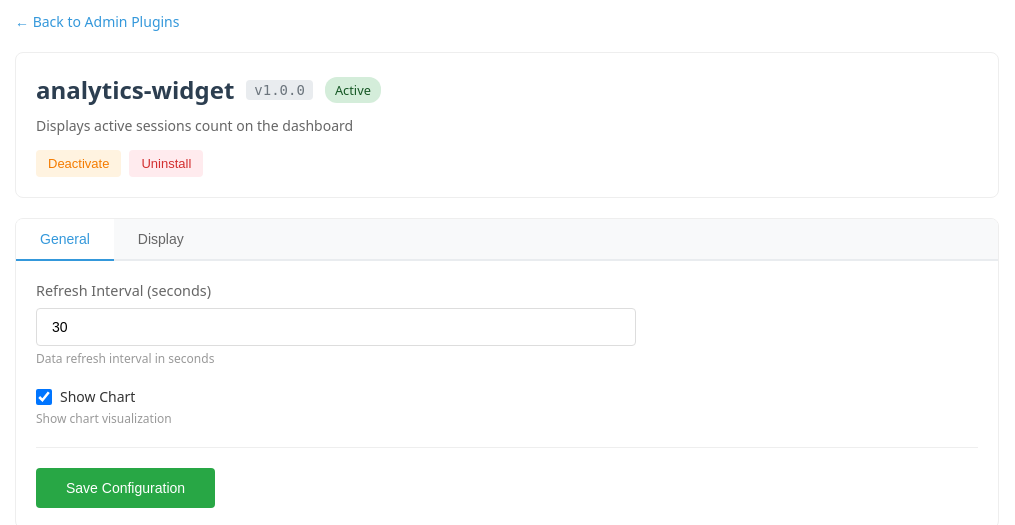
Scenario: PluginDetails.vue › switches config tabs on click
// Click display tab
Click the button with test id "config-tab-display": (161, 240) x1=114 y1=219 x2=208 y2=261
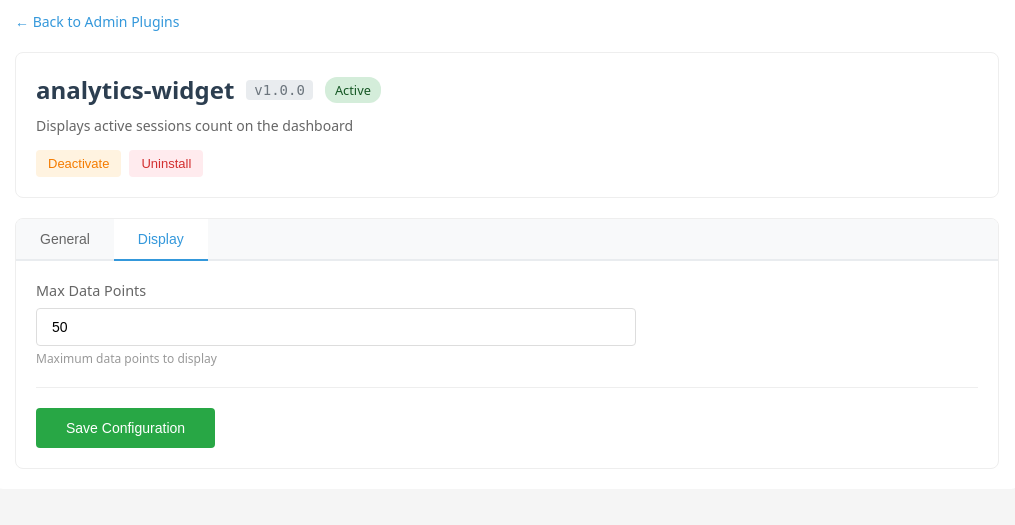
Expected: the element with test id "config-field-maxDataPoints" is shown, x1=36 y1=281 x2=636 y2=367
